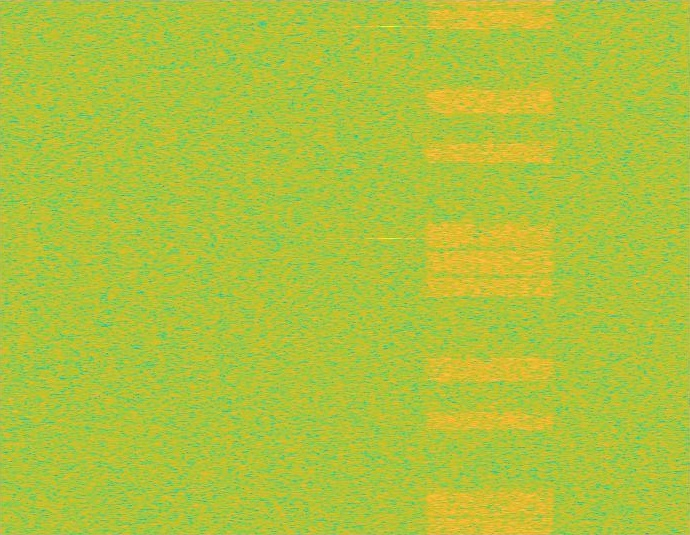LTE: (421, 0, 559, 534)
Radar: (383, 0, 397, 534)
